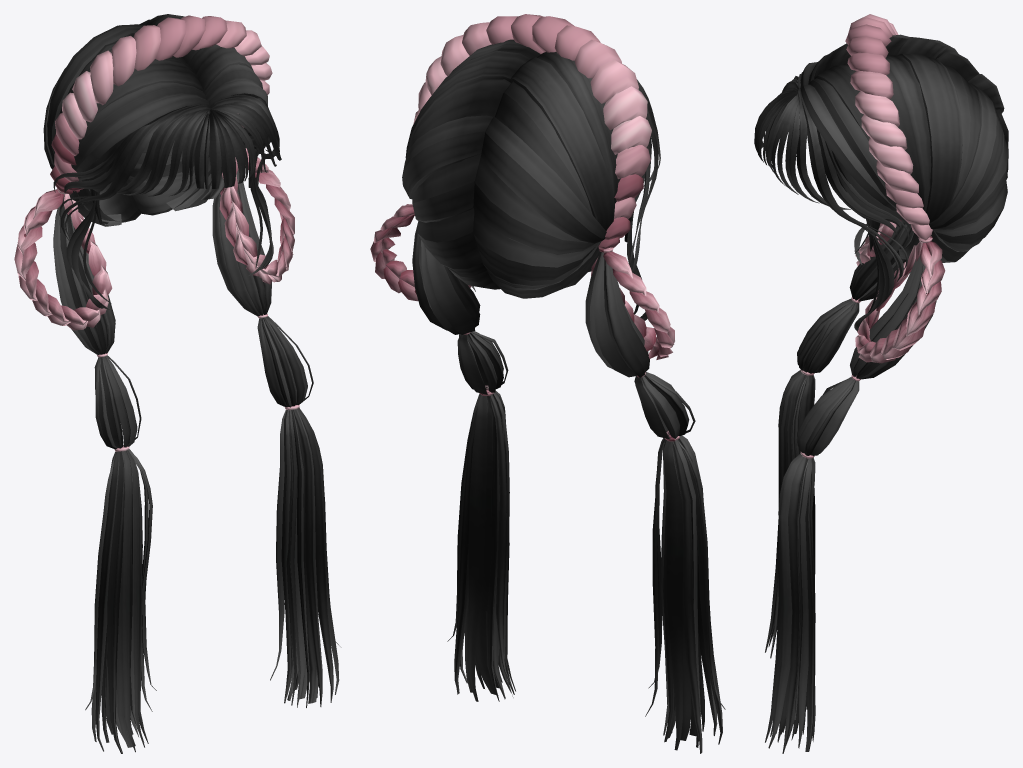
Rendered from 6_zepeto.glb.
3 renders of one model, left to right at view 1: azimuth 30°, elevation 25°; view 2: azimuth 150°, elevation 25°; view 3: azimuth 270°, elevation 25°, orthographic. The views are drawn at different scales.
Visible parts, largest first — view 1: Object_6; view 2: Object_6; view 3: Object_6.
Boxes of the visible parts, <box> form: Object_6: <box>14,14,341,753</box>; Object_6: <box>370,14,725,753</box>; Object_6: <box>754,14,1008,753</box>.
Bounding box in the file's own units: 2.49 × 5.87 × 2.02.
Materials: 1 (1 with a texture image).
